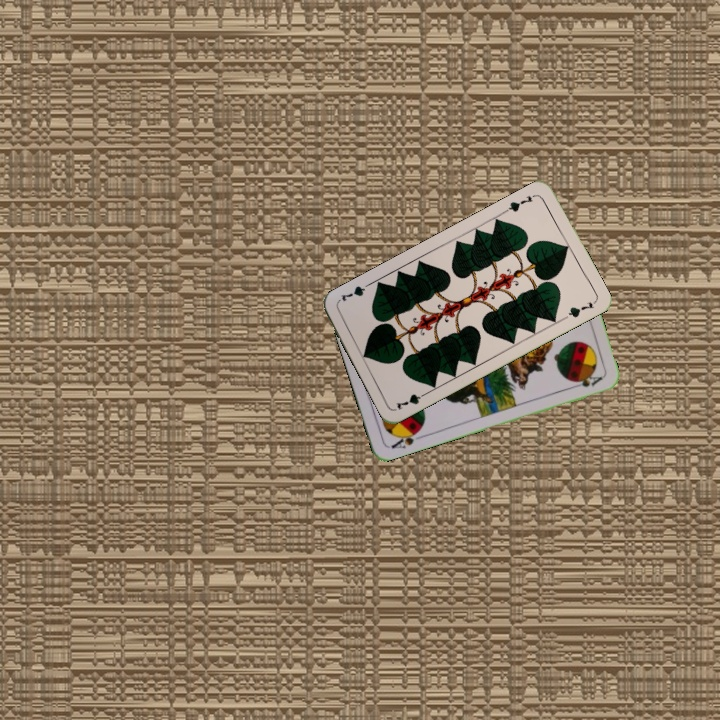G7: (392, 387, 431, 413), (501, 190, 539, 215)
SA: (387, 425, 426, 451)
